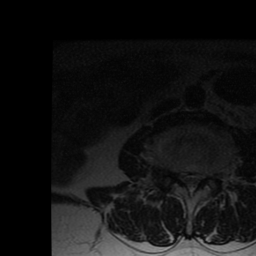CCS_normal: (187, 164, 194, 203)
LFS_severe_stenosis: (202, 162, 210, 189)
LLS_stenosis: (194, 164, 202, 193)
RFS_severe_stenosis: (169, 162, 178, 192)
RLS_normal: (178, 163, 187, 193)
